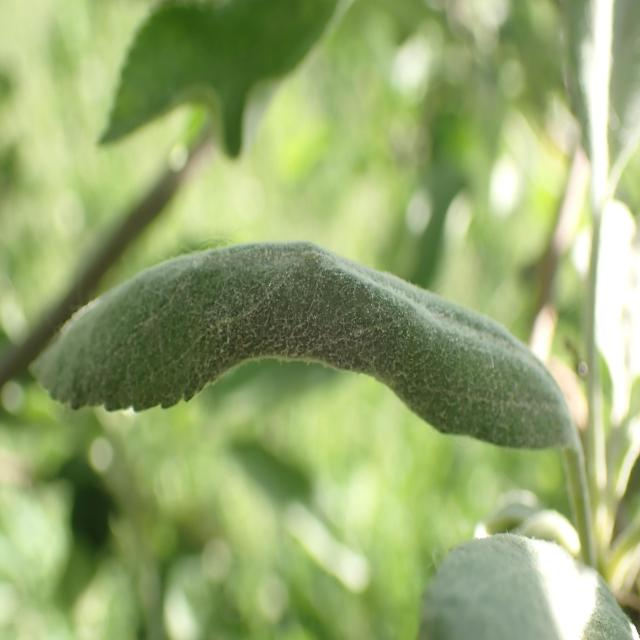Powdery_mildew: (37, 195, 576, 494), (375, 516, 637, 640)
